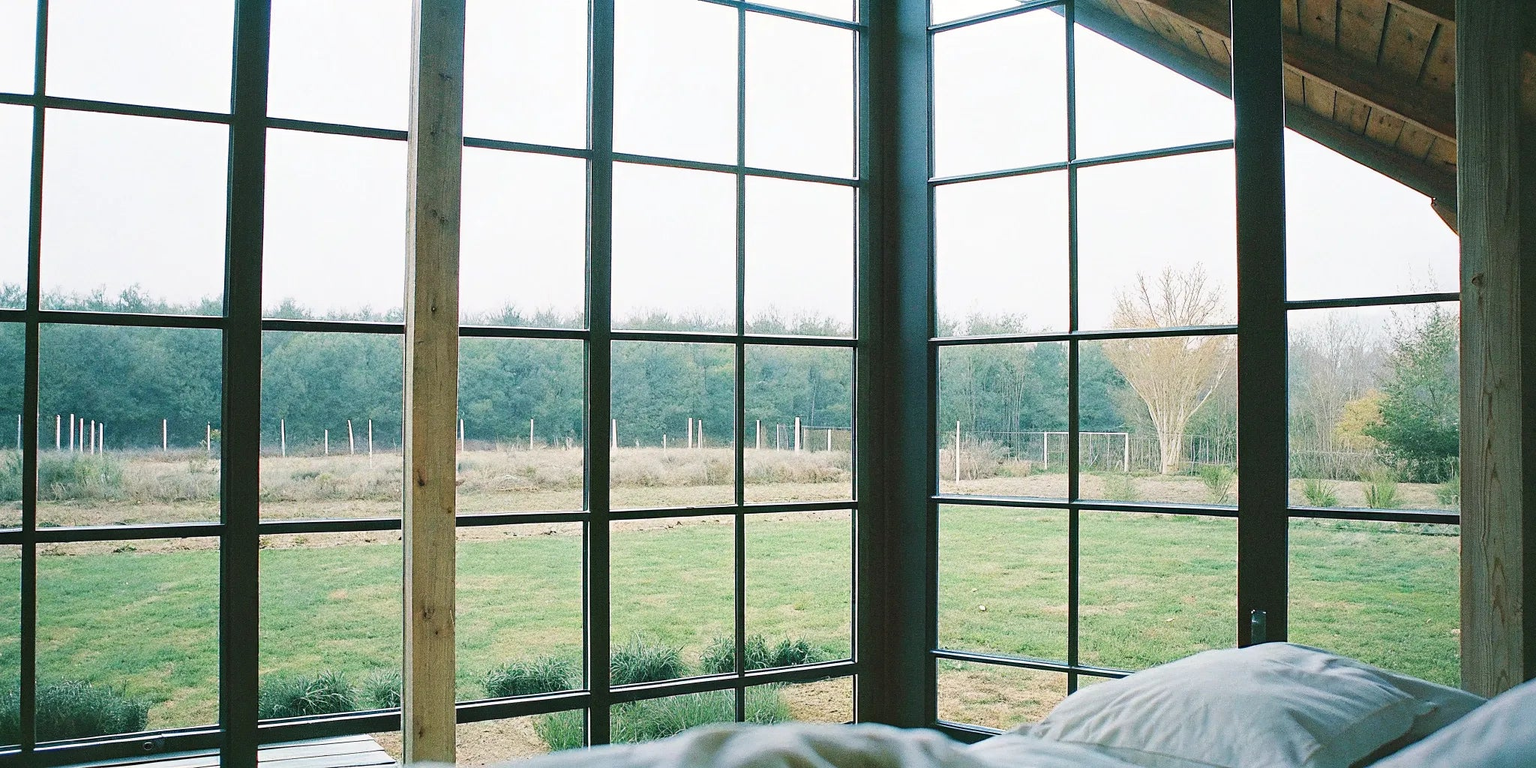glass panel: (40, 110, 228, 314), (36, 538, 218, 741), (38, 325, 221, 525), (1288, 303, 1460, 510), (1285, 131, 1459, 299), (1290, 520, 1460, 686), (1077, 150, 1235, 328), (263, 130, 405, 320), (1078, 336, 1237, 504), (260, 332, 403, 518), (259, 532, 402, 718), (1079, 512, 1235, 669), (460, 148, 586, 327), (933, 9, 1066, 176), (458, 338, 584, 513), (457, 524, 582, 700), (935, 171, 1069, 335), (607, 341, 734, 508), (46, 0, 234, 112), (1074, 25, 1233, 157), (611, 164, 736, 331), (613, 0, 738, 163), (936, 343, 1067, 498), (939, 506, 1066, 659), (268, 0, 410, 128), (465, 0, 587, 146), (744, 176, 856, 335), (745, 14, 854, 176), (742, 345, 852, 502), (744, 512, 852, 670), (936, 659, 1066, 729), (456, 710, 585, 767), (610, 689, 735, 743), (0, 105, 32, 308), (0, 323, 24, 528), (748, 677, 854, 723), (0, 547, 21, 745), (0, 0, 38, 93), (930, 0, 1018, 23), (761, 0, 856, 20), (615, 733, 622, 740)
